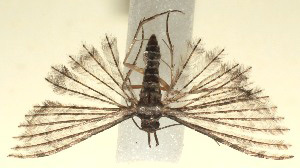Alucitidae: (2, 10, 294, 161)
moth: (3, 10, 295, 161)
